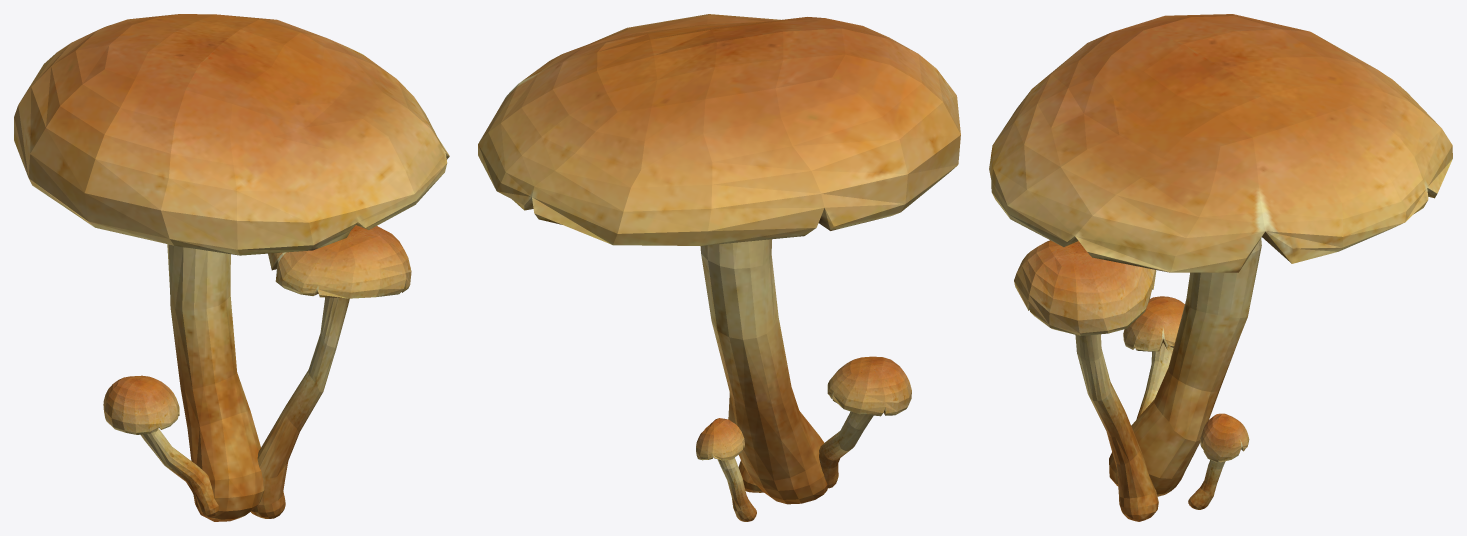
The model's file is P_Chashugu_02.obj.
The picture shows the model from 3 angles, left to right: view 1: azimuth 30°, elevation 25°; view 2: azimuth 150°, elevation 25°; view 3: azimuth 270°, elevation 25°; orthographic projection. The views are drawn at different scales.
Bounding box in the file's own units: 0.3112 × 0.3614 × 0.3359.
1 material, 1 textured.
